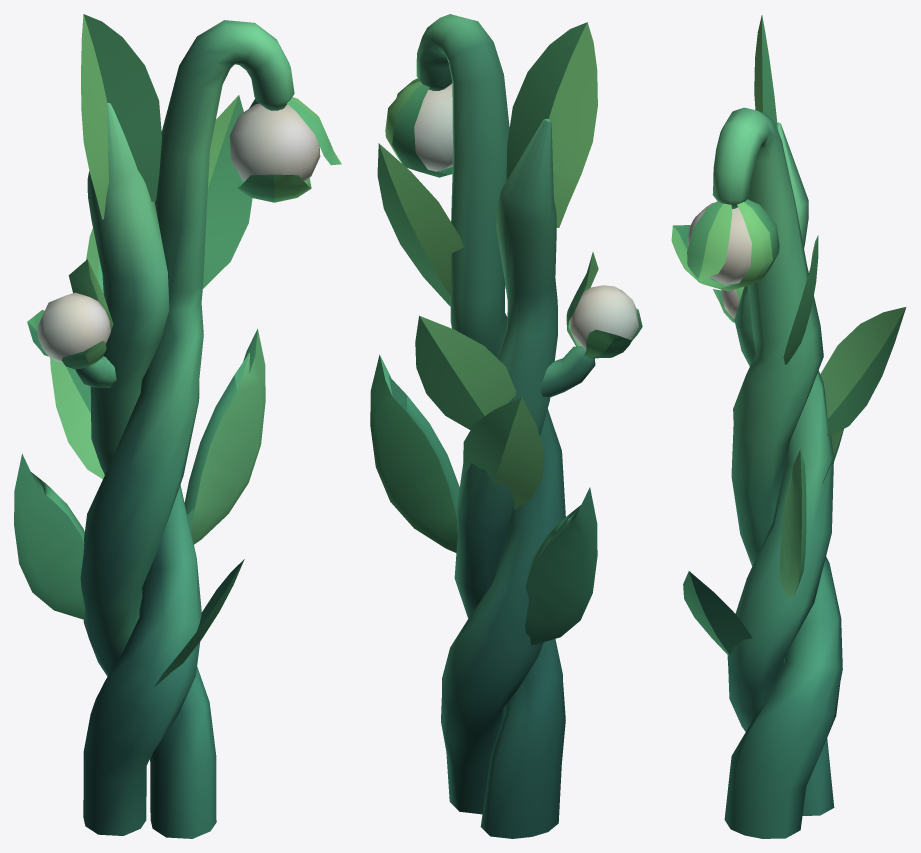
The model's file is Leviathan_Kelp_Tree_Remake_ThickLeaves.glb.
3 views of the same model, side by side, from view 1: azimuth 30°, elevation 25°; view 2: azimuth 150°, elevation 25°; view 3: azimuth 270°, elevation 25° (orthographic). The views are drawn at different scales.
Visible parts, largest first — view 1: Kelp_Remake; view 2: Kelp_Remake; view 3: Kelp_Remake.
Part boxes in pixels (x1,y1,x2,y2): Kelp_Remake: (14,14,341,838); Kelp_Remake: (370,14,642,838); Kelp_Remake: (671,15,906,838).
Bounding box in the file's own units: 4 × 11.63 × 3.23.
